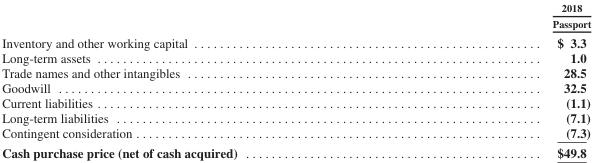table: (1, 1, 590, 159)
table column: (1, 1, 394, 159), (394, 1, 590, 159)
table column header: (1, 1, 590, 31)
table row: (1, 1, 590, 31), (1, 31, 590, 49), (1, 124, 590, 142), (1, 142, 590, 159), (1, 49, 590, 64), (1, 64, 590, 79), (1, 79, 590, 94), (1, 94, 590, 109), (1, 109, 590, 124)
